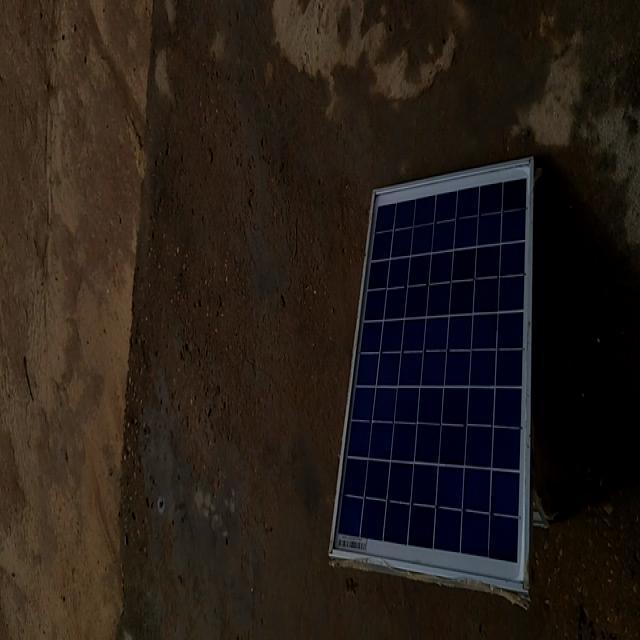Normal Solar Panel: (330, 157, 535, 609)
